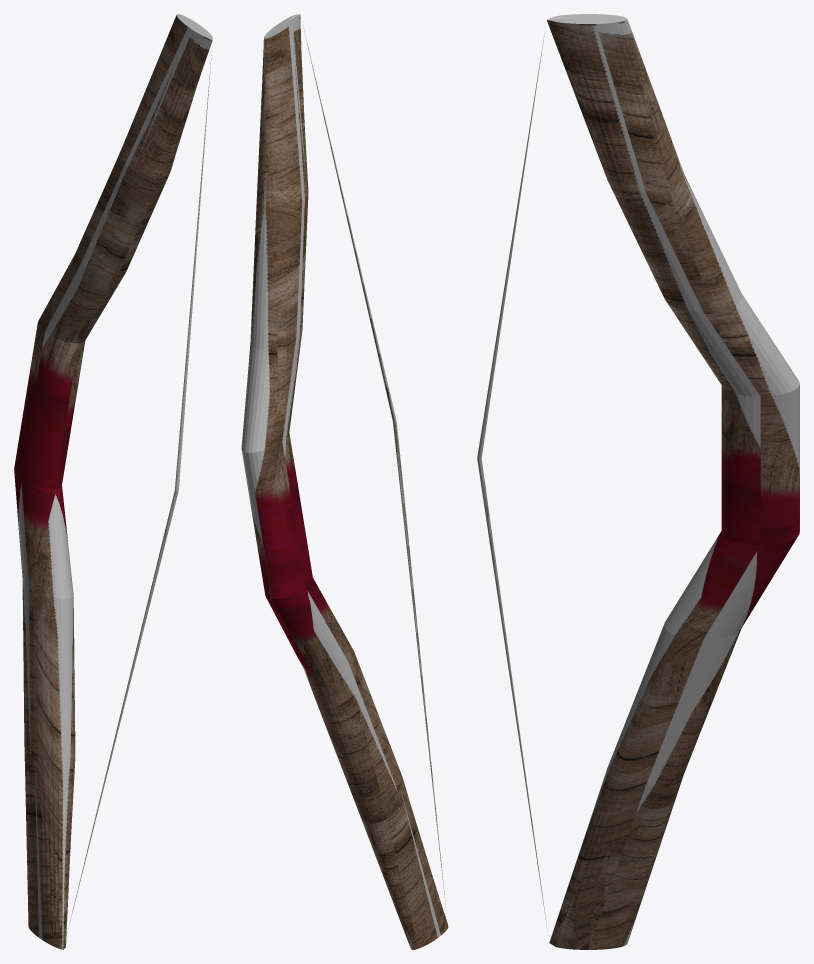
File: Protagonista12.obj
The picture shows the model from 3 angles, left to right: view 1: azimuth 30°, elevation 25°; view 2: azimuth 150°, elevation 25°; view 3: azimuth 270°, elevation 25°; orthographic projection. The views are drawn at different scales.
Parts seen in each view (by area): view 1: Cilindro; view 2: Cilindro; view 3: Cilindro.
Part boxes in pixels (left/top/right/bottom): Cilindro: left=14, top=14, right=212, bottom=949; Cilindro: left=241, top=14, right=448, bottom=949; Cilindro: left=477, top=14, right=799, bottom=949.
Size of the model in its own units: 0.1877 by 0.9705 by 0.2809.
1 material, 1 textured.
